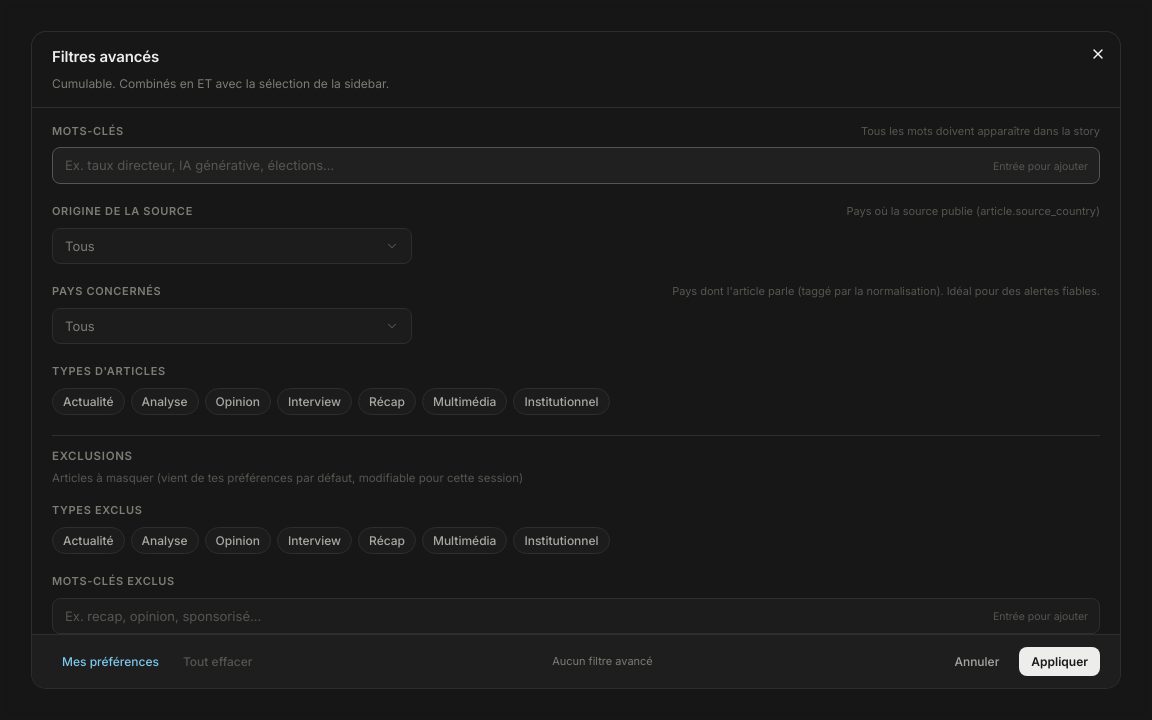
Test: FiltersDialog › offers to restore saved preferences only when they differ from the draft
Click the button "Mes préférences" at (110, 661), box top-left (52, 647), bottom-right (169, 676)
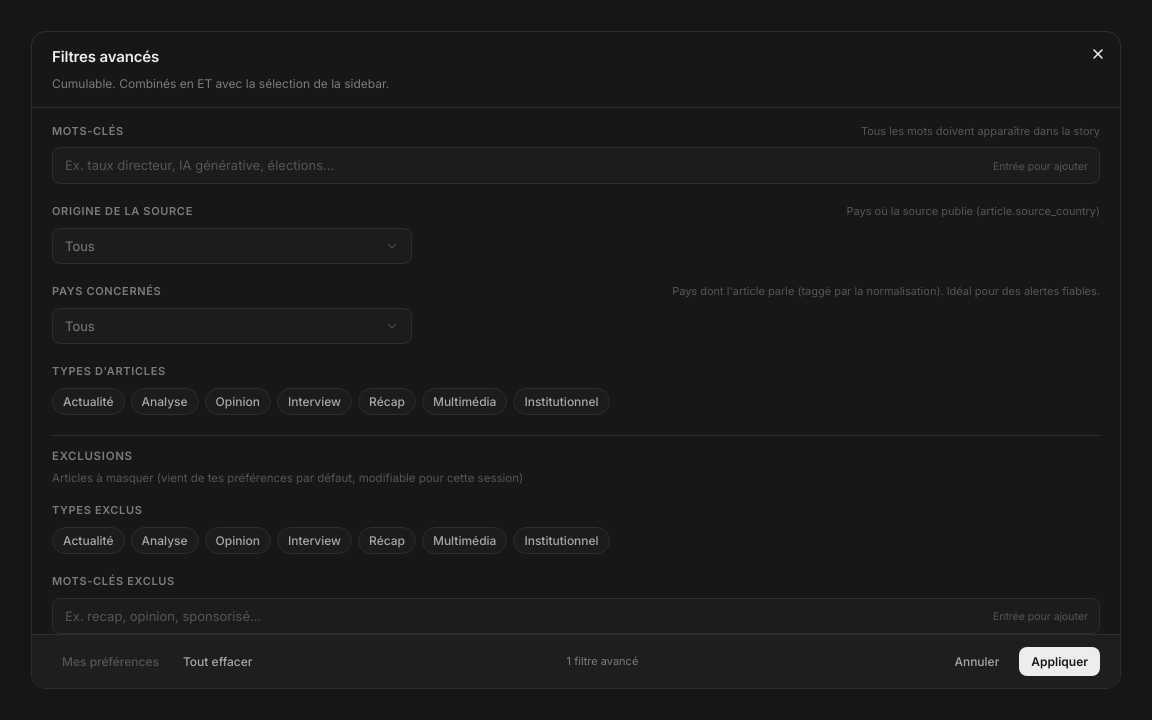
Now the button "Mes préférences" is disabled, box top-left (52, 647), bottom-right (169, 676)
